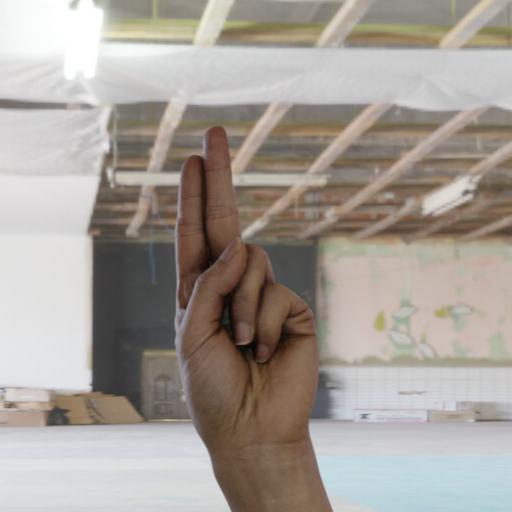U: (138, 111, 400, 512)
